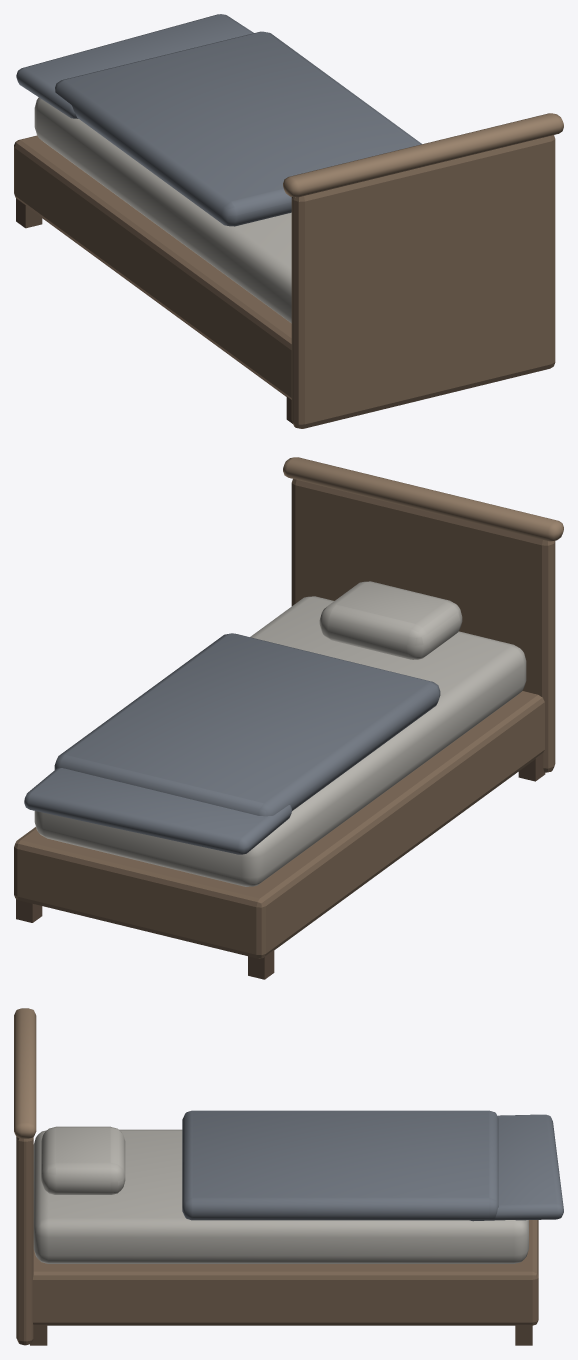
File: bed_0_95x2.glb
3 views of the same model, one above another, from view 1: azimuth 30°, elevation 25°; view 2: azimuth 150°, elevation 25°; view 3: azimuth 270°, elevation 25° (orthographic). The views are drawn at different scales.
Visible parts, largest first — view 1: bed_0_95x2; view 2: bed_0_95x2; view 3: bed_0_95x2.
Part boxes in pixels (x1,y1,x2,y2): bed_0_95x2: [14, 14, 563, 428]; bed_0_95x2: [14, 457, 563, 979]; bed_0_95x2: [14, 1008, 563, 1345].
Bounding box in the file's own units: 1.15 × 1 × 2.22.
